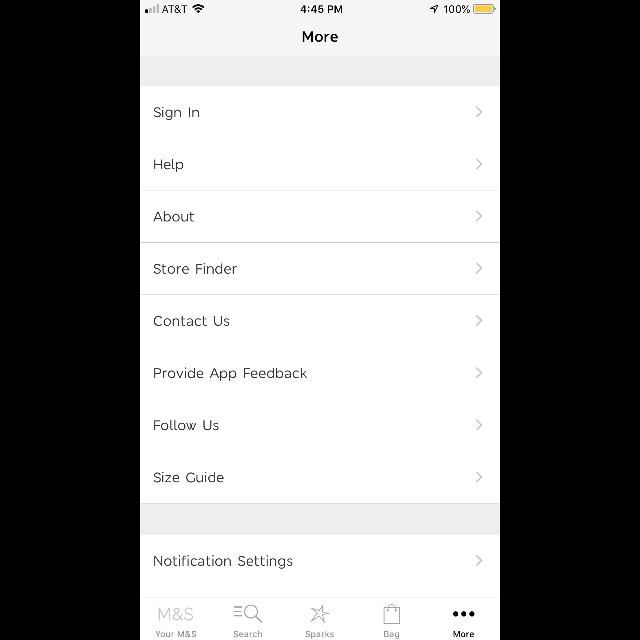icon: (234, 605, 262, 623), (309, 605, 329, 623), (384, 604, 400, 624), (453, 612, 475, 616), (476, 106, 482, 118), (476, 158, 482, 170), (476, 210, 482, 222), (476, 262, 482, 274), (476, 316, 482, 326), (476, 368, 482, 378), (476, 420, 482, 430), (476, 472, 482, 482), (476, 556, 482, 566)
text: (154, 367, 308, 381), (154, 556, 292, 568), (154, 264, 238, 274), (154, 316, 230, 326), (154, 472, 224, 482), (154, 106, 200, 120), (155, 420, 219, 430), (153, 212, 194, 222), (159, 608, 193, 620), (302, 32, 338, 42), (154, 160, 183, 172), (156, 630, 197, 638), (306, 630, 334, 638), (234, 631, 262, 637), (384, 631, 400, 639), (454, 631, 474, 637)
uppertaskbar: (140, 0, 500, 14)
